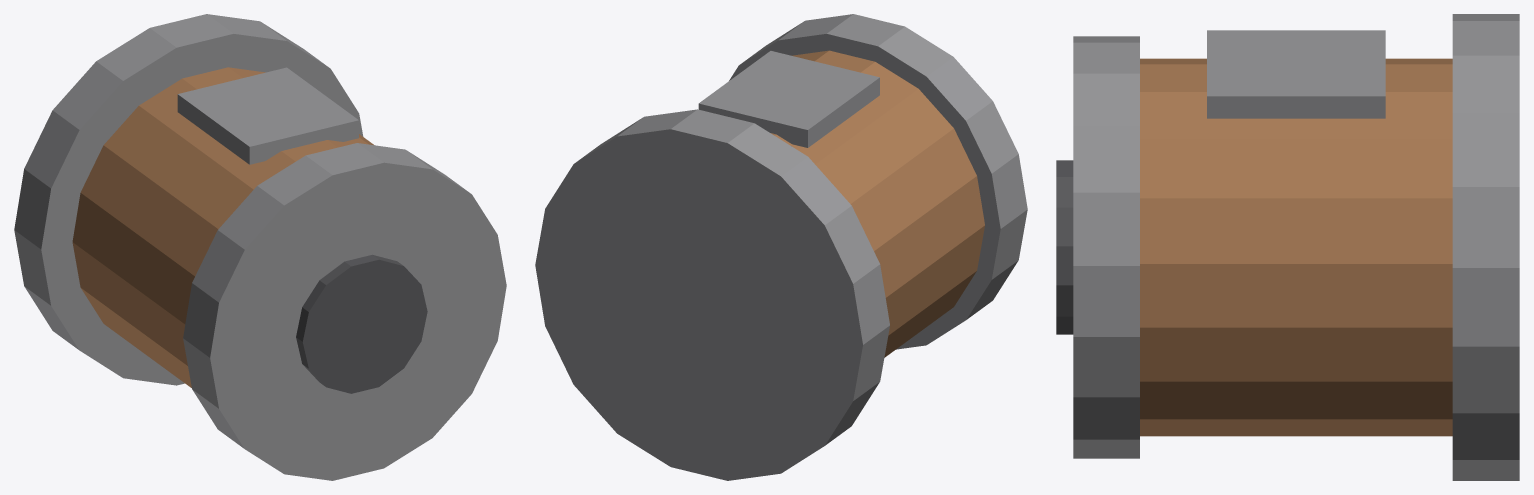
The model's file is vge_wall_firefoam_popper.obj.
The picture shows the model from 3 angles, left to right: view 1: azimuth 30°, elevation 25°; view 2: azimuth 150°, elevation 25°; view 3: azimuth 270°, elevation 25°; orthographic projection. The views are drawn at different scales.
Visible parts, largest first — view 1: vge_wall_firefoam_popper_2, vge_wall_firefoam_popper_1, vge_wall_firefoam_popper_0, vge_wall_firefoam_popper_3, vge_wall_firefoam_popper_4; view 2: vge_wall_firefoam_popper_0, vge_wall_firefoam_popper_1, vge_wall_firefoam_popper_2, vge_wall_firefoam_popper_4; view 3: vge_wall_firefoam_popper_1, vge_wall_firefoam_popper_0, vge_wall_firefoam_popper_2, vge_wall_firefoam_popper_4, vge_wall_firefoam_popper_3.
Boxes of the visible parts, left/top/right/bottom form: vge_wall_firefoam_popper_2: left=183, top=143, right=506, bottom=480; vge_wall_firefoam_popper_1: left=72, top=67, right=374, bottom=387; vge_wall_firefoam_popper_0: left=14, top=14, right=363, bottom=385; vge_wall_firefoam_popper_3: left=296, top=254, right=427, bottom=393; vge_wall_firefoam_popper_4: left=177, top=67, right=358, bottom=164; vge_wall_firefoam_popper_0: left=535, top=109, right=889, bottom=480; vge_wall_firefoam_popper_1: left=770, top=50, right=984, bottom=357; vge_wall_firefoam_popper_2: left=729, top=14, right=1027, bottom=349; vge_wall_firefoam_popper_4: left=698, top=51, right=879, bottom=147; vge_wall_firefoam_popper_1: left=1140, top=58, right=1452, bottom=436; vge_wall_firefoam_popper_0: left=1452, top=14, right=1519, bottom=480; vge_wall_firefoam_popper_2: left=1073, top=36, right=1139, bottom=458; vge_wall_firefoam_popper_4: left=1207, top=30, right=1385, bottom=118; vge_wall_firefoam_popper_3: left=1056, top=160, right=1073, bottom=334.
Size of the model in its own units: 0.42 by 0.4136 by 0.415.
